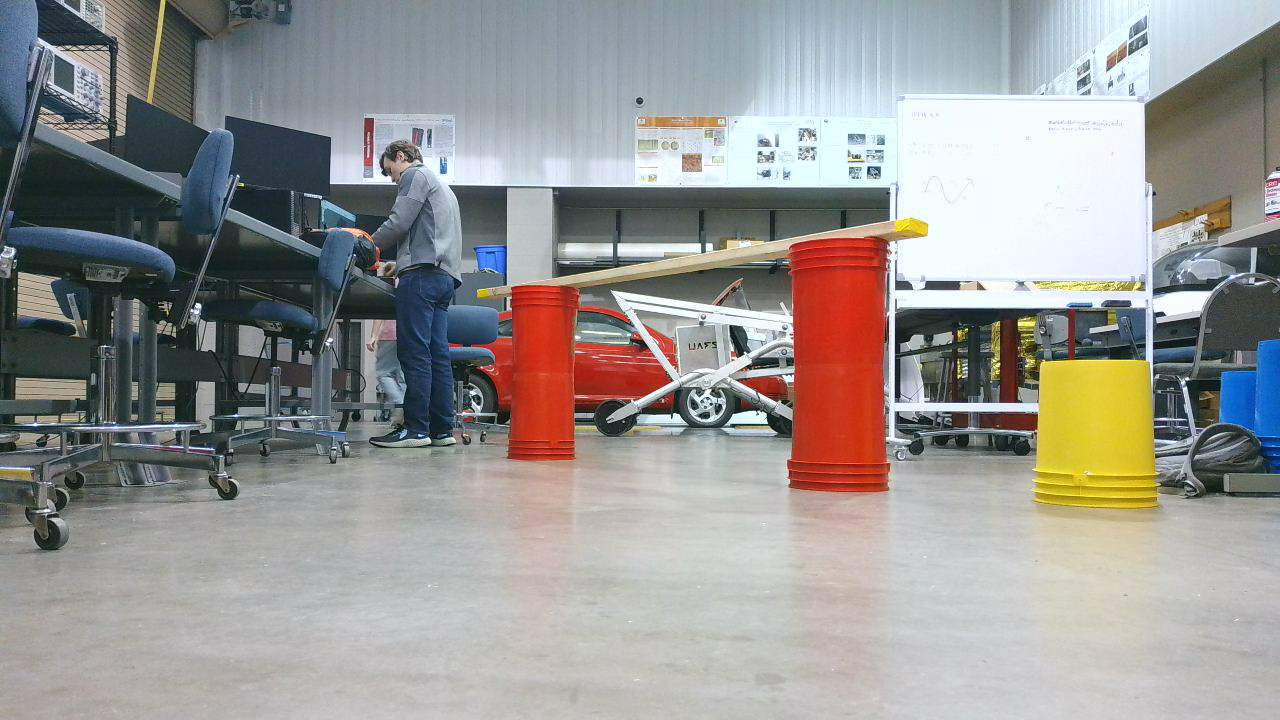red_bucket_arch: (497, 218, 943, 501)
yellow_bucket: (1031, 358, 1170, 517)
